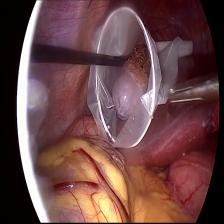Grasper: (167, 72, 222, 112)
Specimen Bag: (87, 5, 198, 154)
